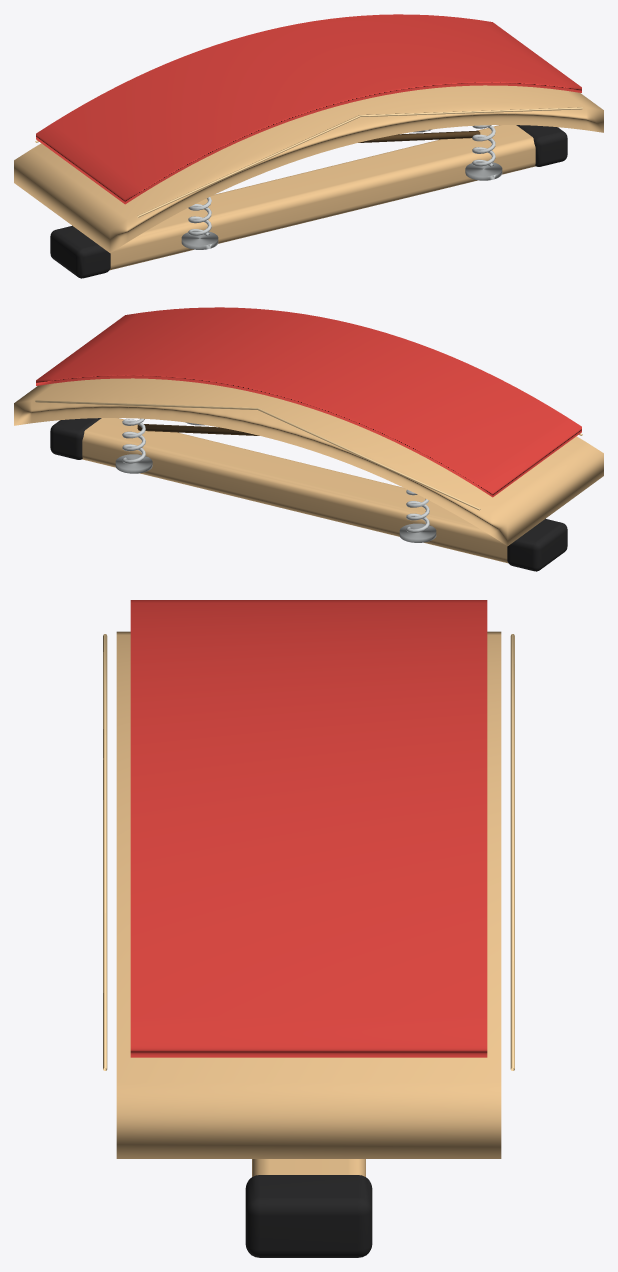
Rendered from Sprungbrett_3D.glb.
The picture shows the model from 3 angles, top to bottom: view 1: azimuth 30°, elevation 25°; view 2: azimuth 150°, elevation 25°; view 3: azimuth 270°, elevation 25°; orthographic projection. The views are drawn at different scales.
Parts seen in each view (by area): view 1: Sprungbrett_3D__web_red_textured_springboard_carpet_top, Sprungbrett_3D__web_laminated_wood_springboard_curved_deck, Sprungbrett_3D__web_dark_rubber_springboard_feet_caps, Sprungbrett_3D__web_brushed_steel_springboard_coils_and_plat, Sprungbrett_3D__web_pale_wood_springboard_edge_highlights, Sprungbrett_3D__web_dark_under_shadow_springboard_details; view 2: Sprungbrett_3D__web_red_textured_springboard_carpet_top, Sprungbrett_3D__web_laminated_wood_springboard_curved_deck, Sprungbrett_3D__web_dark_rubber_springboard_feet_caps, Sprungbrett_3D__web_brushed_steel_springboard_coils_and_plat, Sprungbrett_3D__web_pale_wood_springboard_edge_highlights, Sprungbrett_3D__web_dark_under_shadow_springboard_details; view 3: Sprungbrett_3D__web_red_textured_springboard_carpet_top, Sprungbrett_3D__web_laminated_wood_springboard_curved_deck, Sprungbrett_3D__web_dark_rubber_springboard_feet_caps, Sprungbrett_3D__web_pale_wood_springboard_edge_highlights.
Part boxes in pixels (x1=…): Sprungbrett_3D__web_red_textured_springboard_carpet_top: x1=36, y1=14, x2=581, y2=204; Sprungbrett_3D__web_laminated_wood_springboard_curved_deck: x1=14, y1=85, x2=603, y2=270; Sprungbrett_3D__web_dark_rubber_springboard_feet_caps: x1=50, y1=125, x2=567, y2=278; Sprungbrett_3D__web_brushed_steel_springboard_coils_and_plat: x1=181, y1=125, x2=502, y2=249; Sprungbrett_3D__web_pale_wood_springboard_edge_highlights: x1=35, y1=107, x2=582, y2=217; Sprungbrett_3D__web_dark_under_shadow_springboard_details: x1=358, y1=130, x2=480, y2=142; Sprungbrett_3D__web_red_textured_springboard_carpet_top: x1=36, y1=307, x2=581, y2=497; Sprungbrett_3D__web_laminated_wood_springboard_curved_deck: x1=14, y1=378, x2=603, y2=563; Sprungbrett_3D__web_dark_rubber_springboard_feet_caps: x1=50, y1=418, x2=567, y2=571; Sprungbrett_3D__web_brushed_steel_springboard_coils_and_plat: x1=115, y1=418, x2=436, y2=542; Sprungbrett_3D__web_pale_wood_springboard_edge_highlights: x1=35, y1=400, x2=582, y2=510; Sprungbrett_3D__web_dark_under_shadow_springboard_details: x1=137, y1=424, x2=259, y2=435; Sprungbrett_3D__web_red_textured_springboard_carpet_top: x1=130, y1=600, x2=487, y2=1057; Sprungbrett_3D__web_laminated_wood_springboard_curved_deck: x1=116, y1=631, x2=501, y2=1176; Sprungbrett_3D__web_dark_rubber_springboard_feet_caps: x1=245, y1=1175, x2=372, y2=1257; Sprungbrett_3D__web_pale_wood_springboard_edge_highlights: x1=103, y1=634, x2=514, y2=1070.
Bounding box in the file's own units: 1.6 × 0.457 × 0.578.
